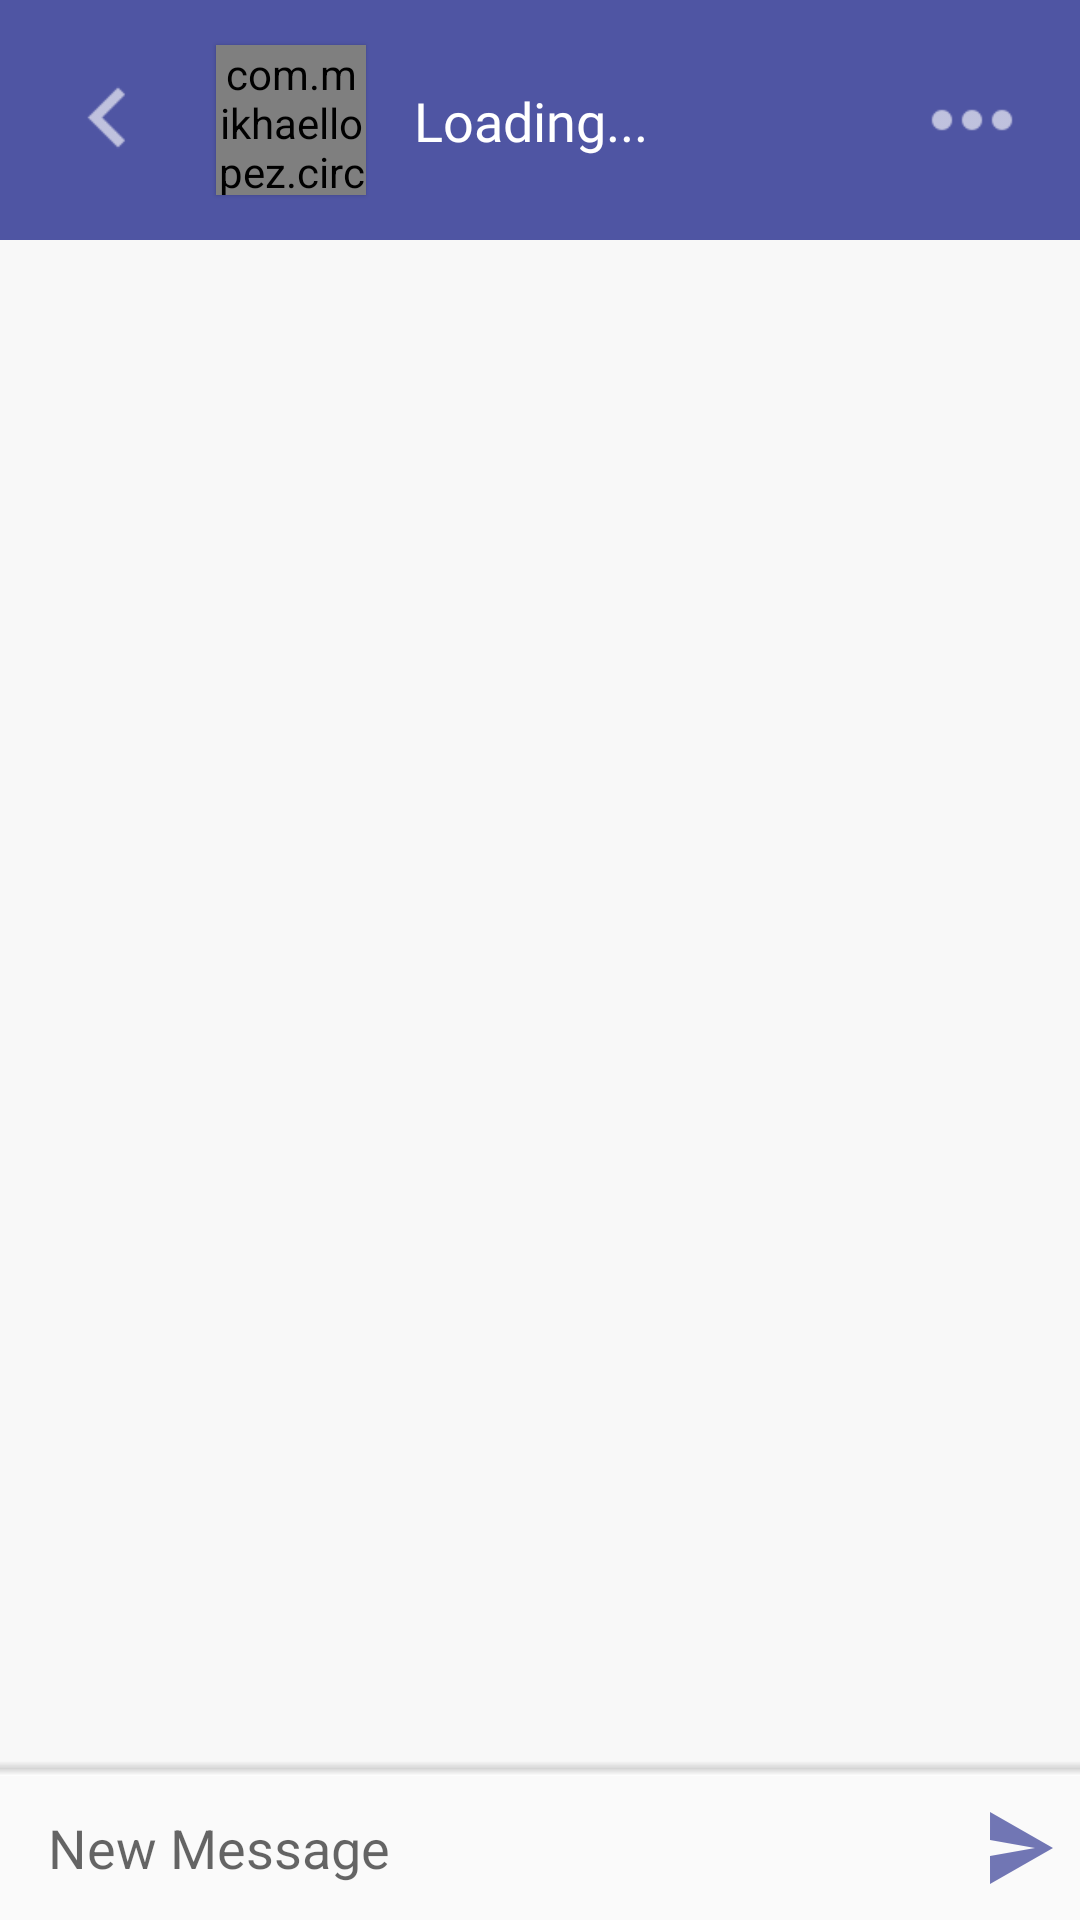

Named icons in this screenshot (1080 x 1920) and their centers, [x,y]:
arrow left: [106,117]
more info: [972,120]
send: [1021,1848]
